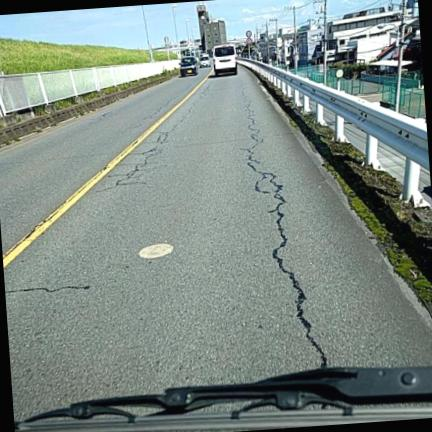Road: (5, 68, 431, 417)
